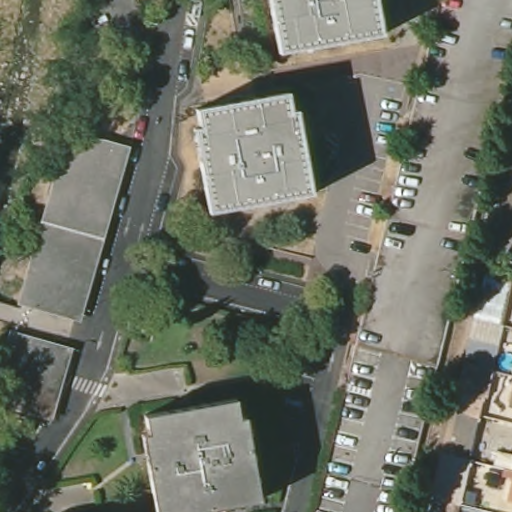pool: (498, 351, 512, 372)
